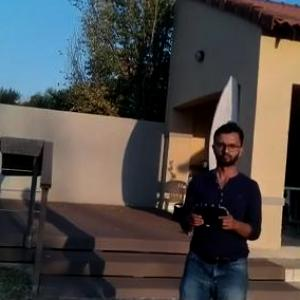follow: (167, 115, 262, 299)
